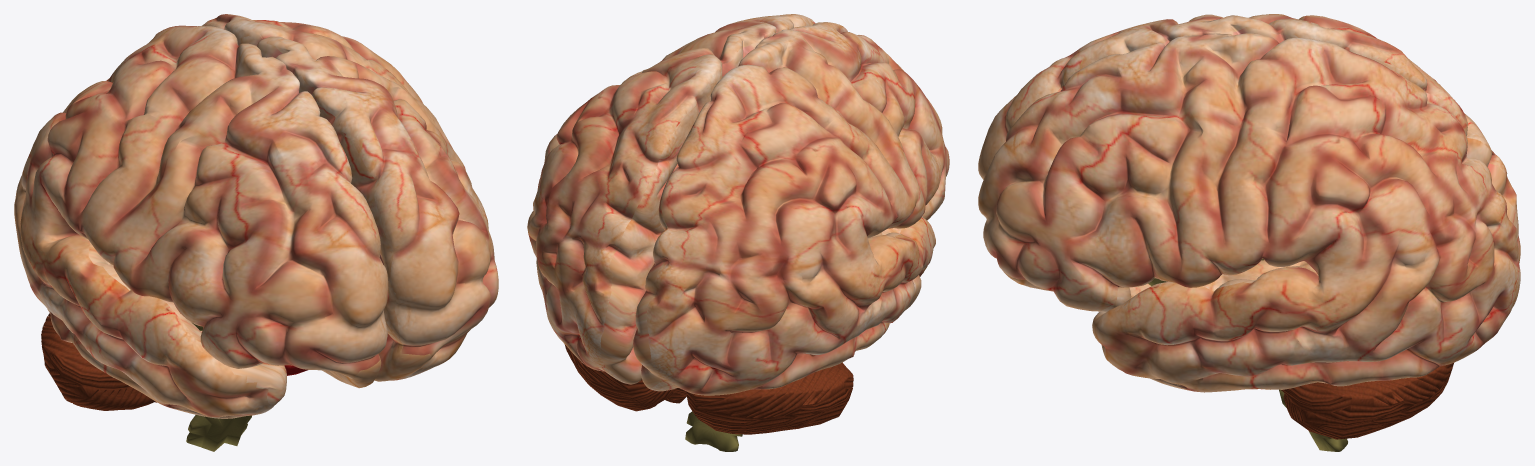
Rendered from BrainRaw.glb.
3 views of the same model, side by side, from view 1: azimuth 30°, elevation 25°; view 2: azimuth 150°, elevation 25°; view 3: azimuth 270°, elevation 25° (orthographic). The views are drawn at different scales.
Visible parts, largest first — view 1: Brain; view 2: Brain; view 3: Brain.
Part boxes in pixels (box(x1,y1,x2,y2)): Brain: box(14, 14, 498, 451); Brain: box(527, 14, 949, 451); Brain: box(978, 14, 1520, 451).
Bounding box in the file's own units: 0.0106 × 0.0112 × 0.0132.
1 material, 1 textured.
